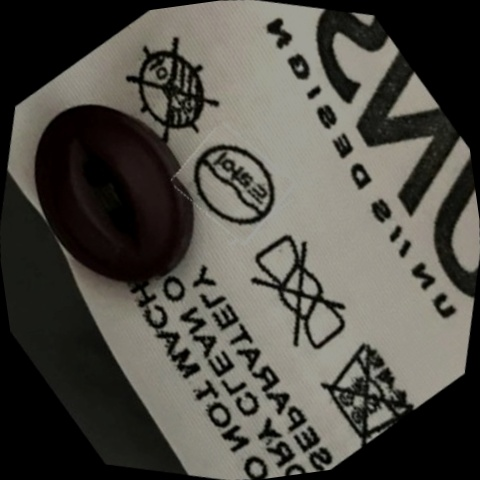DN_dry: (107, 25, 237, 156)
DN_wring: (226, 222, 372, 369)
dry_clean: (174, 124, 292, 245)
hand_wash: (303, 321, 428, 453)
